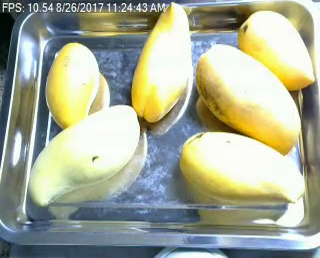Mango: (195, 43, 300, 156), (27, 103, 140, 207), (180, 132, 306, 204), (132, 2, 190, 123), (236, 10, 315, 92), (45, 43, 100, 129)
